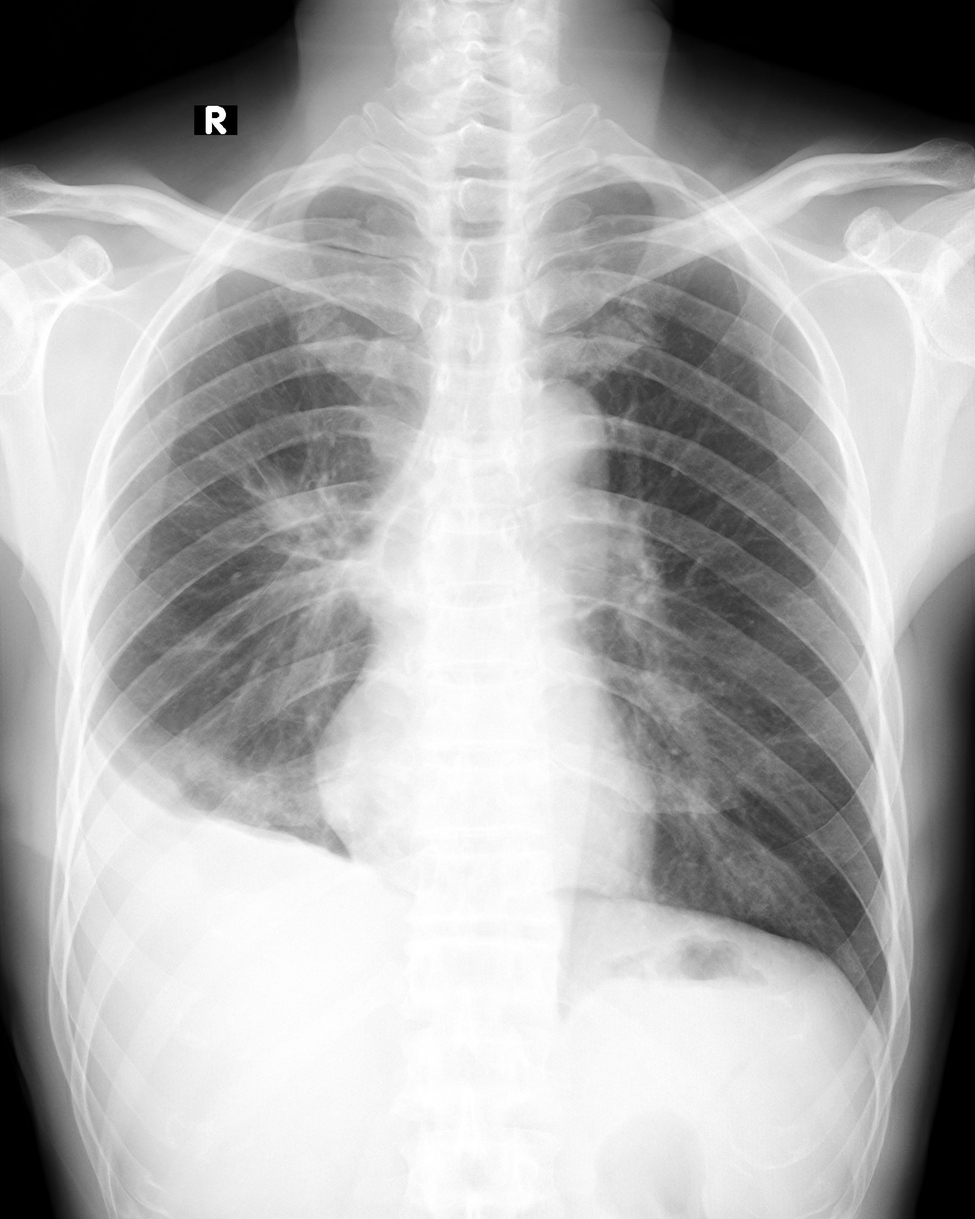Pulmonary fibrosis: (195, 394, 349, 610)
